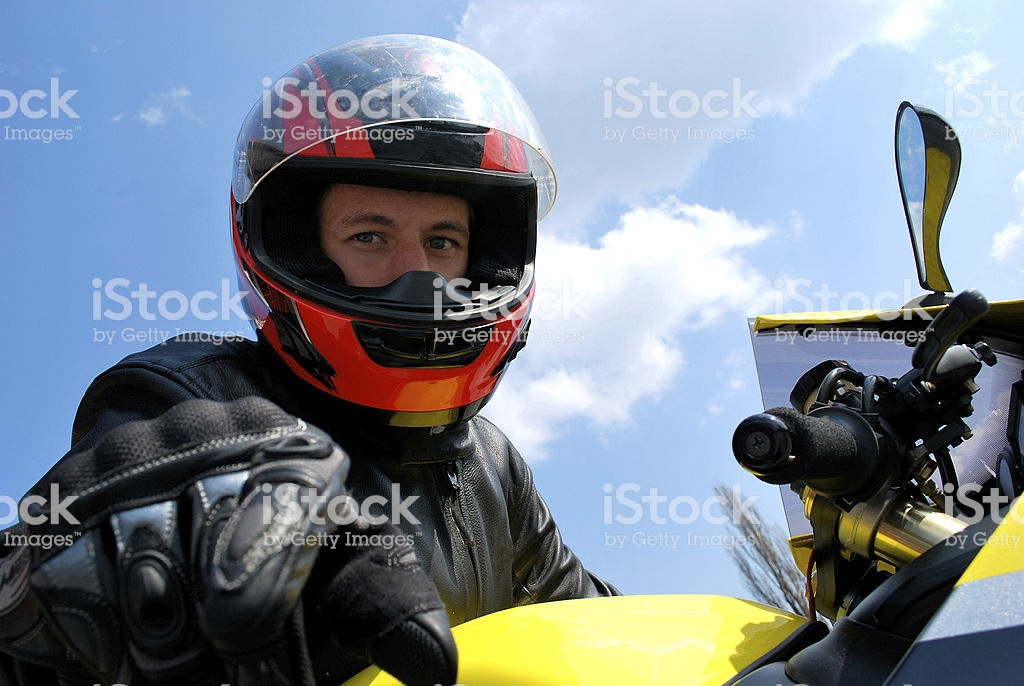helmet: (213, 34, 559, 386)
